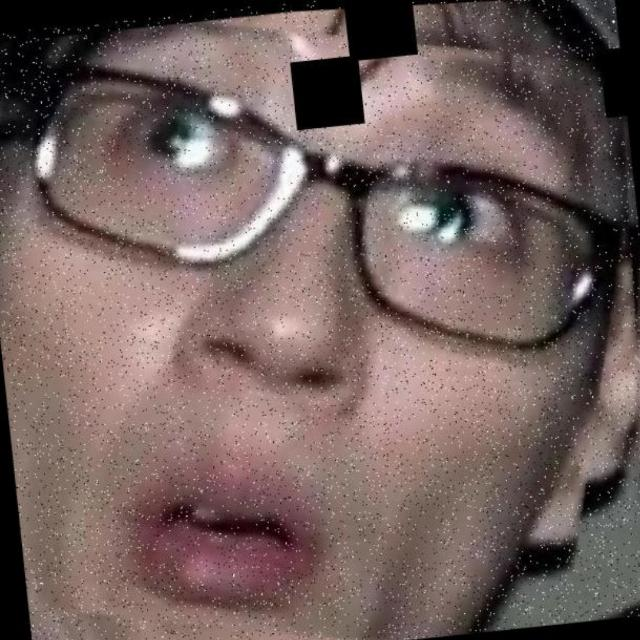Surprised: (12, 33, 616, 640)
